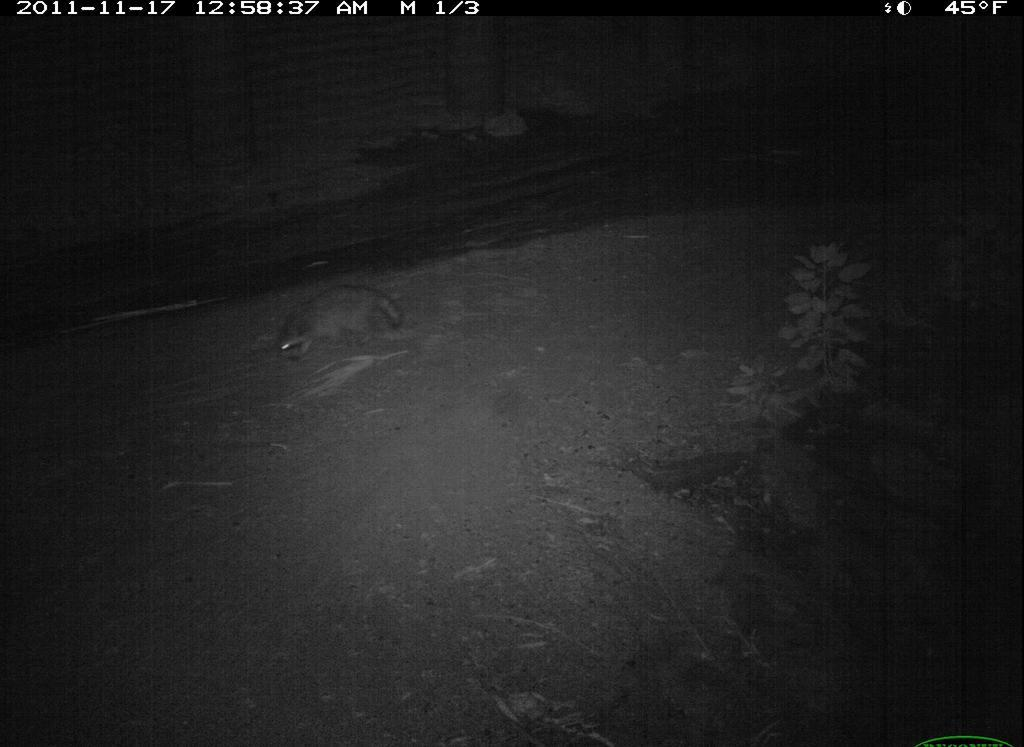raccoon: (263, 280, 417, 370)
